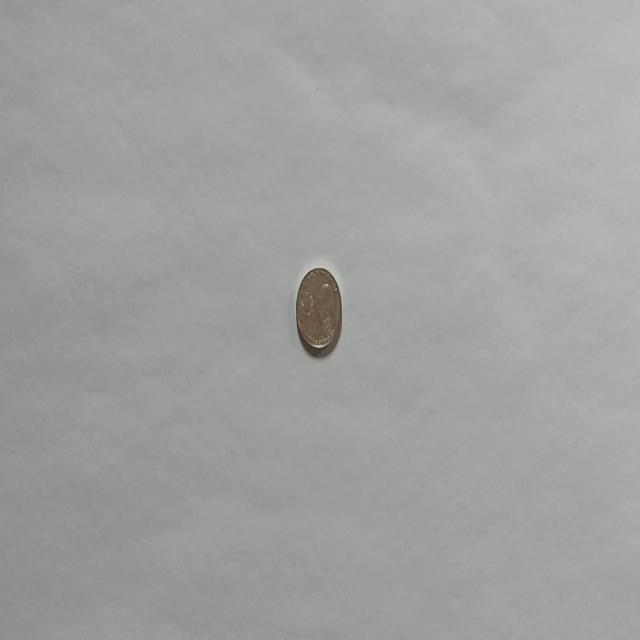lima ratus rupiah: (295, 264, 343, 356)
